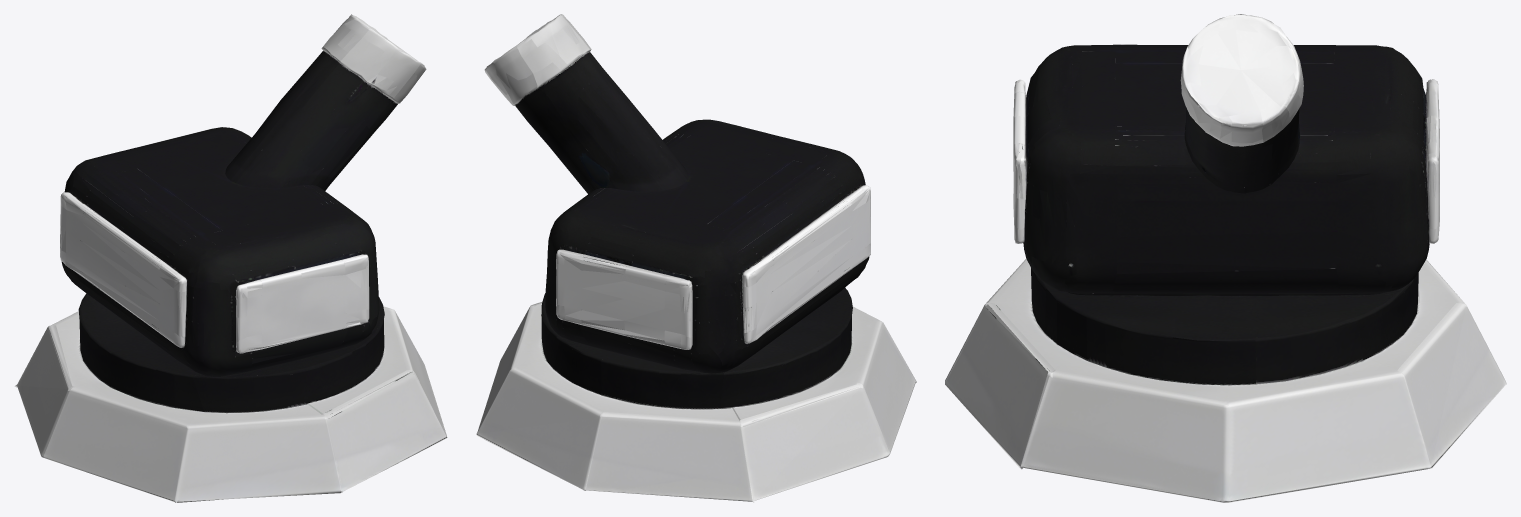
File: mortar.glb
The picture shows the model from 3 angles, left to right: view 1: azimuth 30°, elevation 25°; view 2: azimuth 150°, elevation 25°; view 3: azimuth 270°, elevation 25°; orthographic projection. The views are drawn at different scales.
Size of the model in its own units: 1 by 0.8906 by 1.
1 material, 1 textured.
